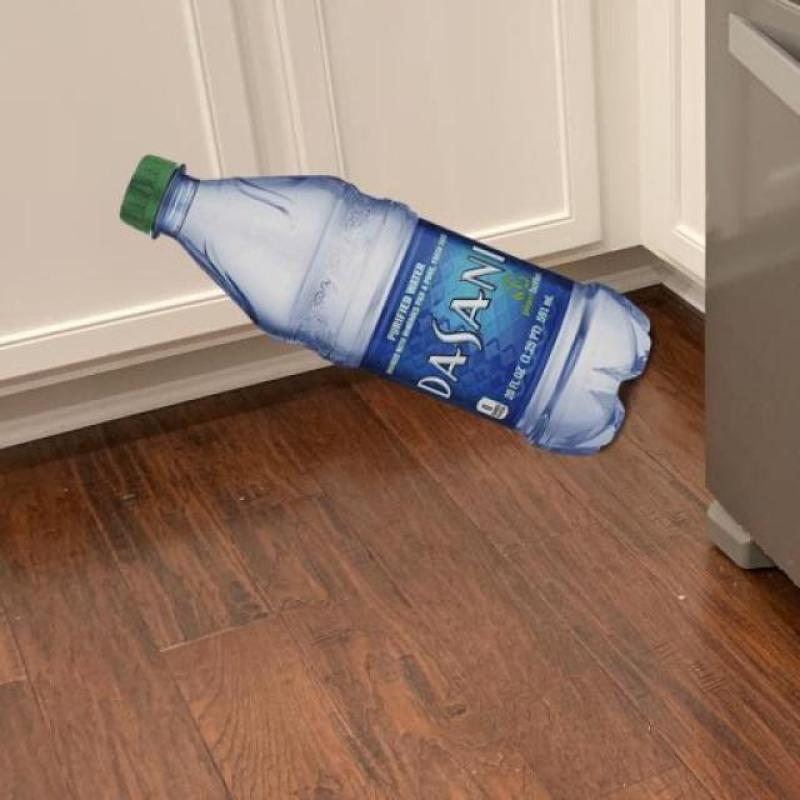botella: (118, 154, 654, 454)
